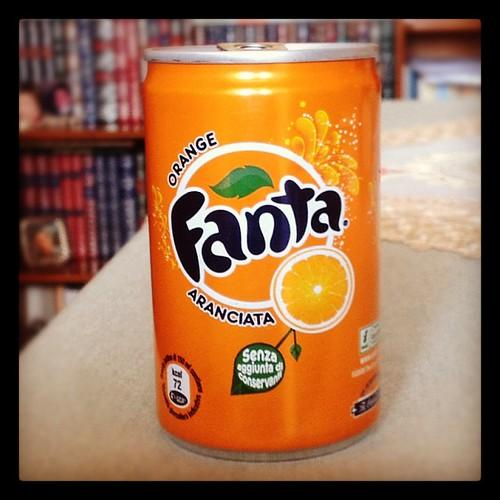metal: (144, 43, 381, 460)
